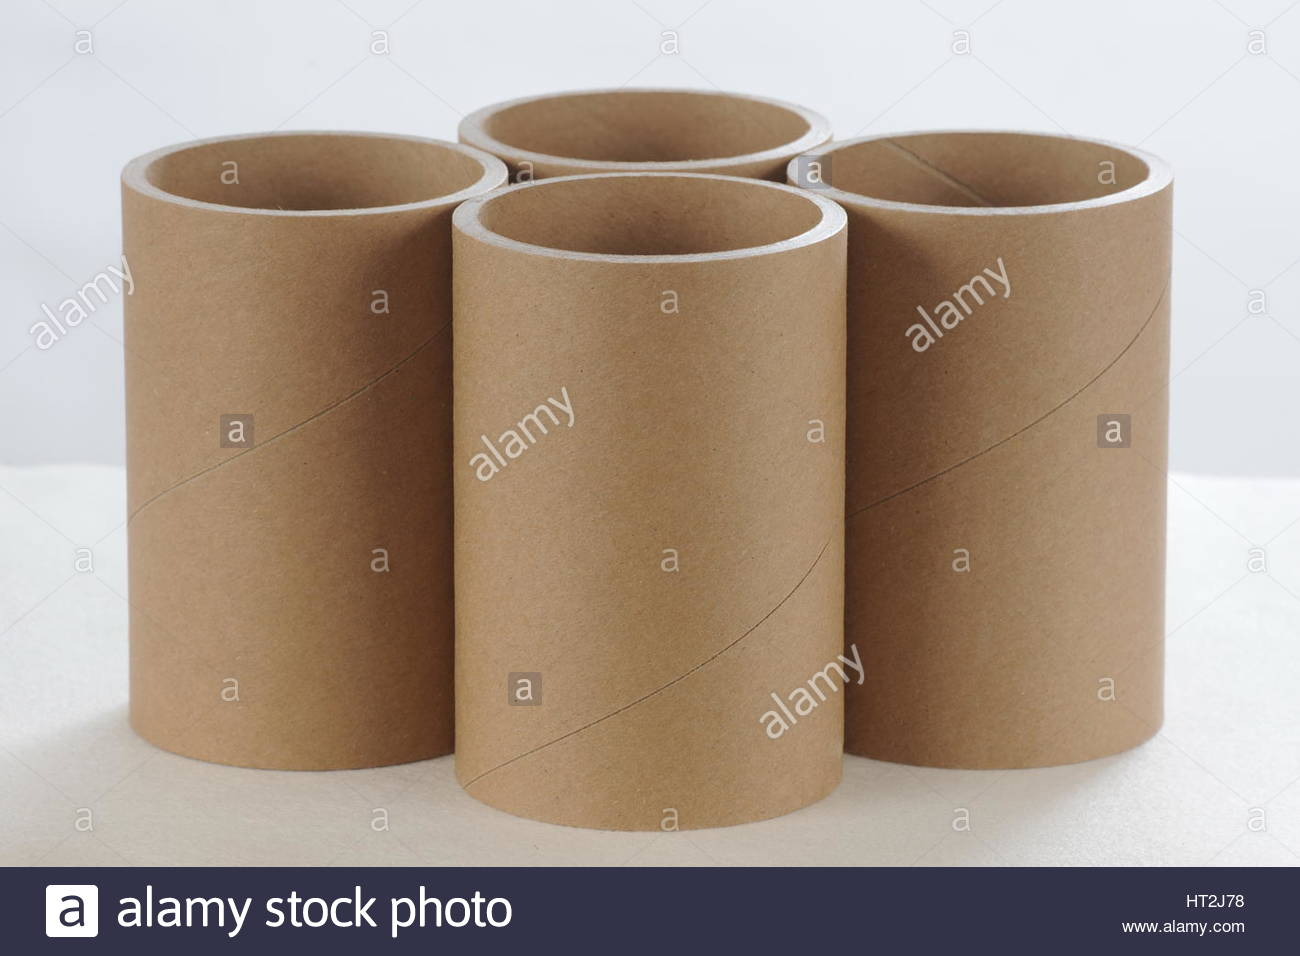Rec_Paper: (788, 117, 1235, 776), (446, 151, 868, 842), (81, 121, 496, 780), (461, 55, 845, 182)
